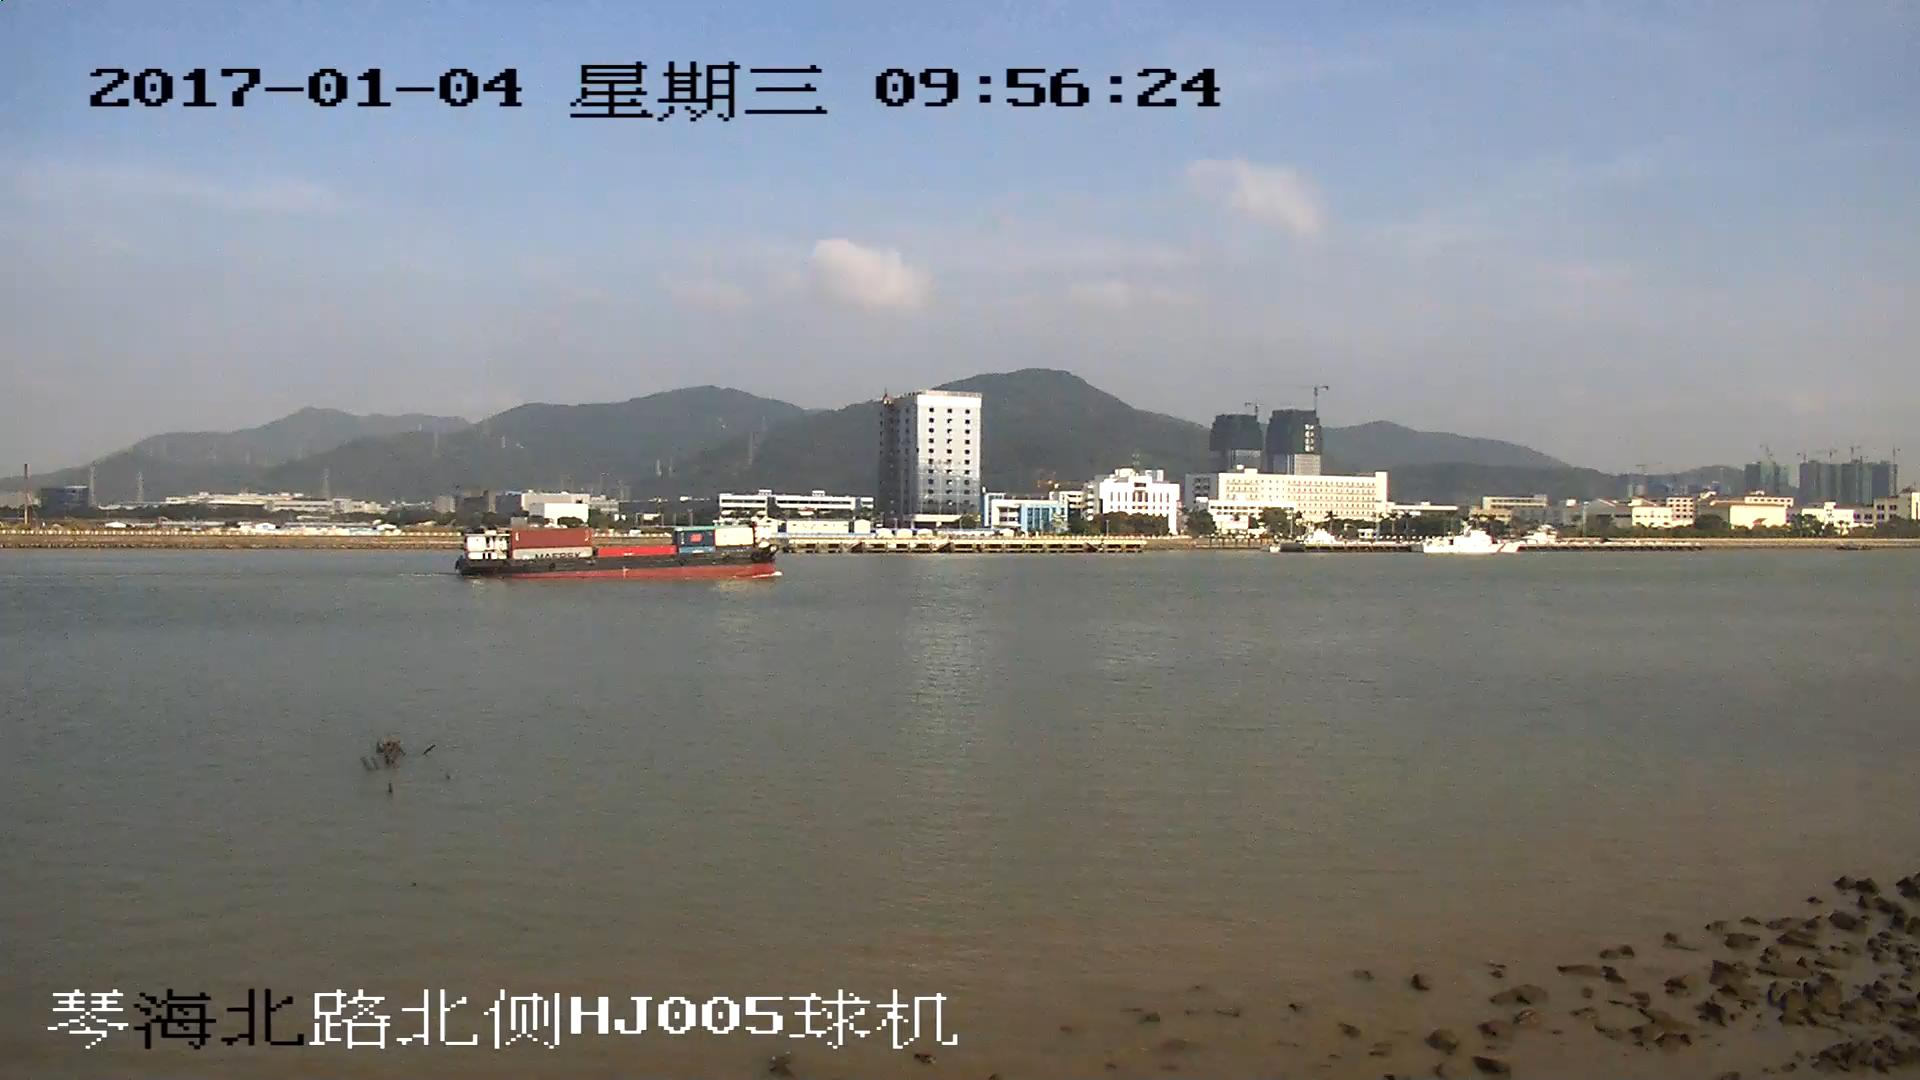container ship: (456, 528, 775, 582)
